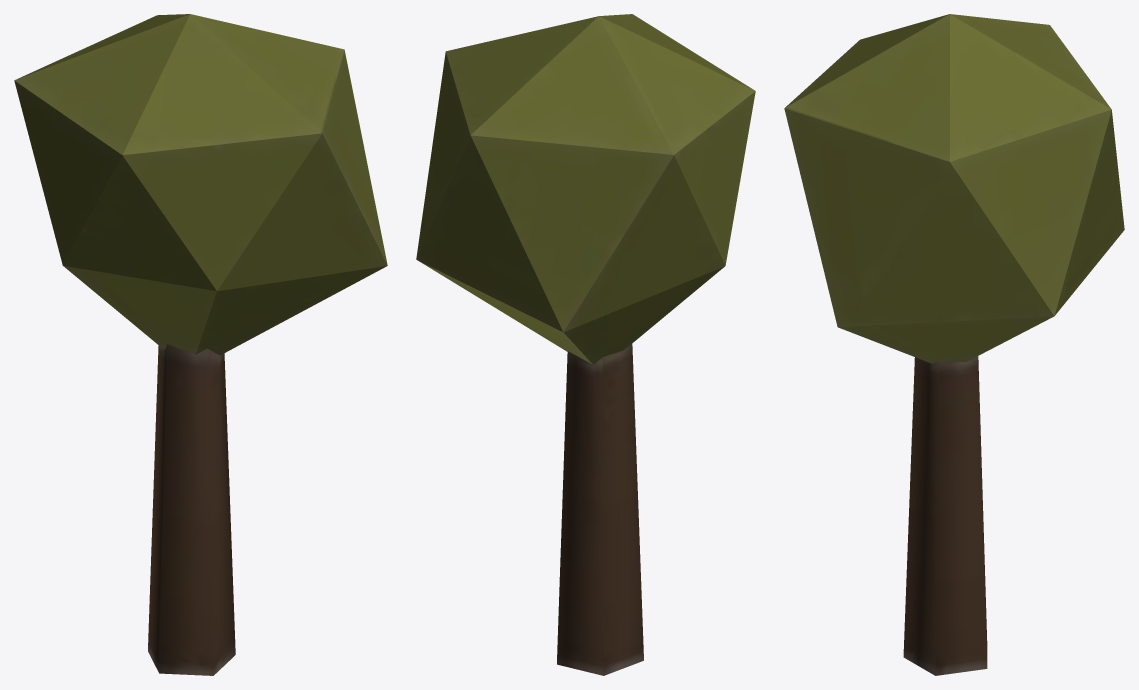
Rendered from tree_2.glb.
3 views of the same model, side by side, from view 1: azimuth 30°, elevation 25°; view 2: azimuth 150°, elevation 25°; view 3: azimuth 270°, elevation 25° (orthographic).
Visible parts, largest first — view 1: te_prop_tree_2; view 2: te_prop_tree_2; view 3: te_prop_tree_2.
Part boxes in pixels (x1,y1,x2,y2): te_prop_tree_2: (14,14,387,675); te_prop_tree_2: (416,14,755,675); te_prop_tree_2: (784,14,1124,675).
Bounding box in the file's own units: 0.1681 × 0.3677 × 0.1763.
1 material, 1 textured.
